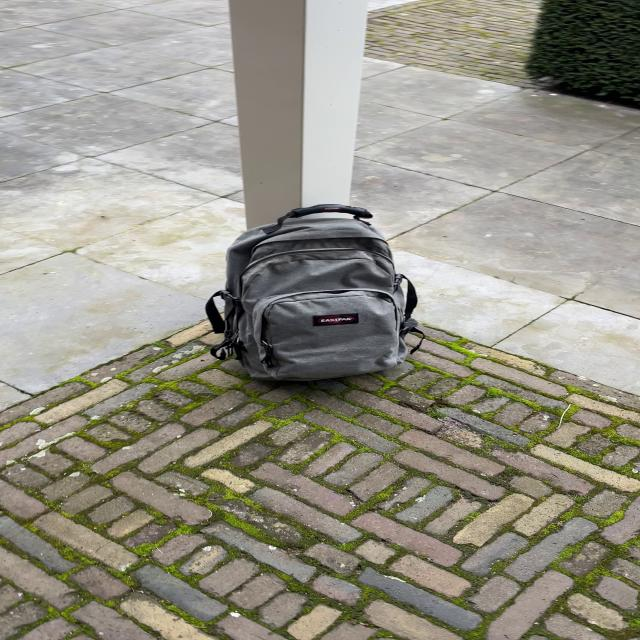backpack: (199, 198, 428, 391)
